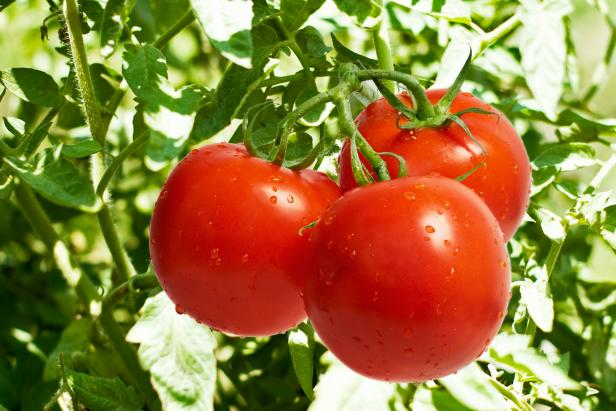stems: (271, 89, 335, 157), (359, 68, 438, 120), (352, 123, 391, 185)
tomato: (303, 175, 511, 381), (148, 141, 344, 339), (338, 88, 532, 244)
